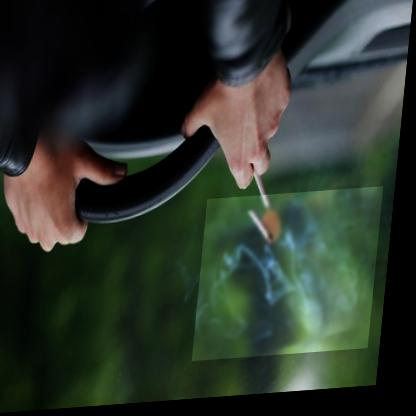smoke: (199, 192, 388, 365)
